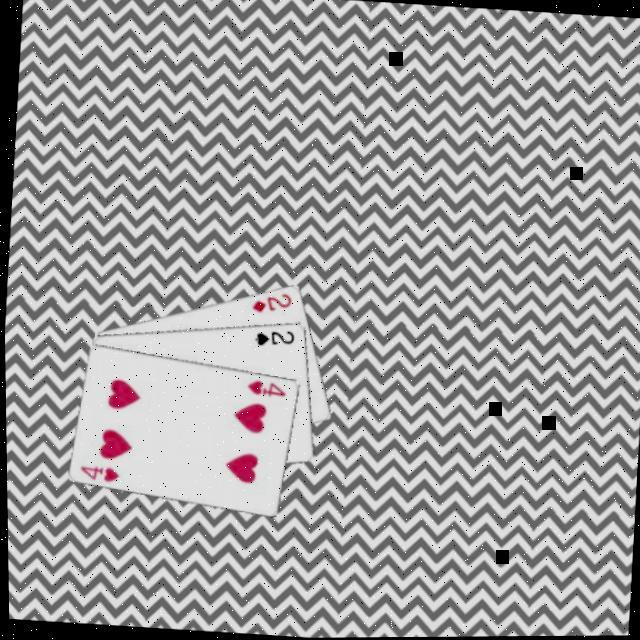2D: (244, 286, 292, 315)
2S: (248, 323, 295, 348)
4H: (240, 374, 285, 398), (74, 459, 119, 483)
